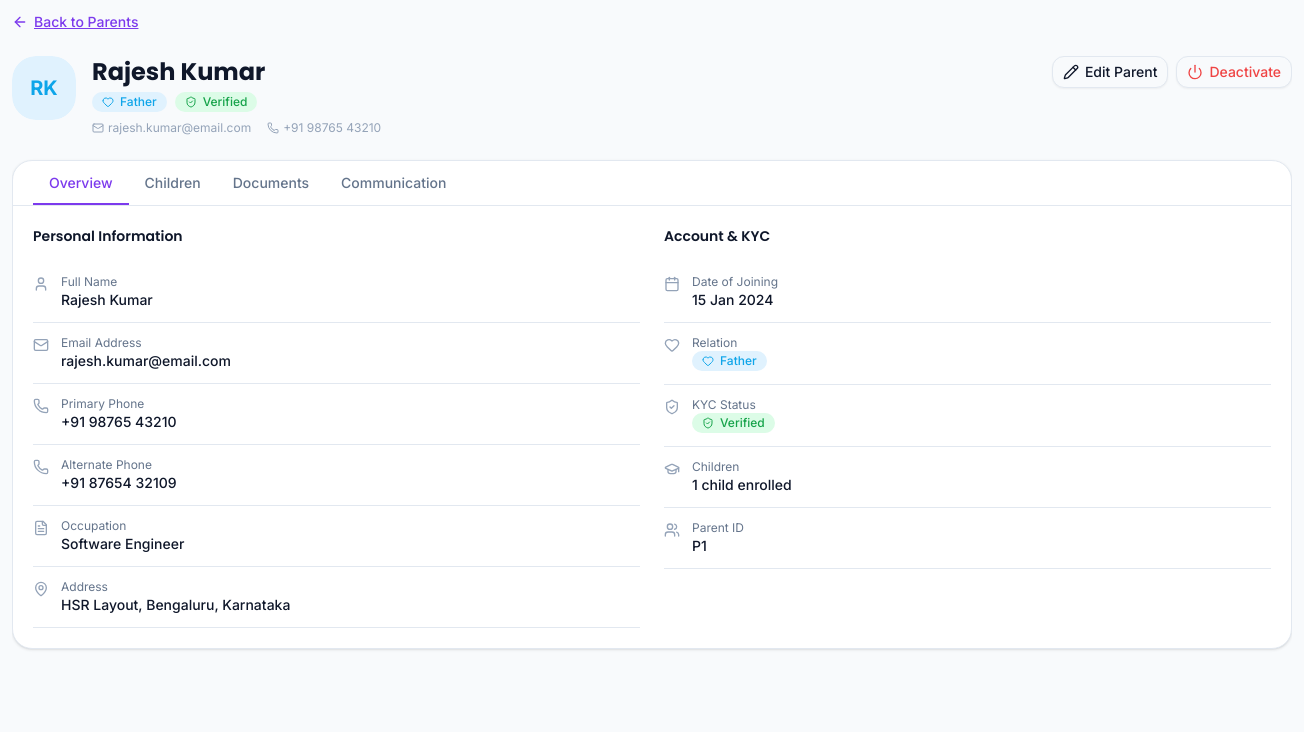
ParentDetailPage › Tabs › switches to Communication tab when clicked
The width and height of the screenshot is (1304, 732).
Click the button "Communication". click: point(394, 183)
box: top-left (325, 161), bottom-right (462, 205)
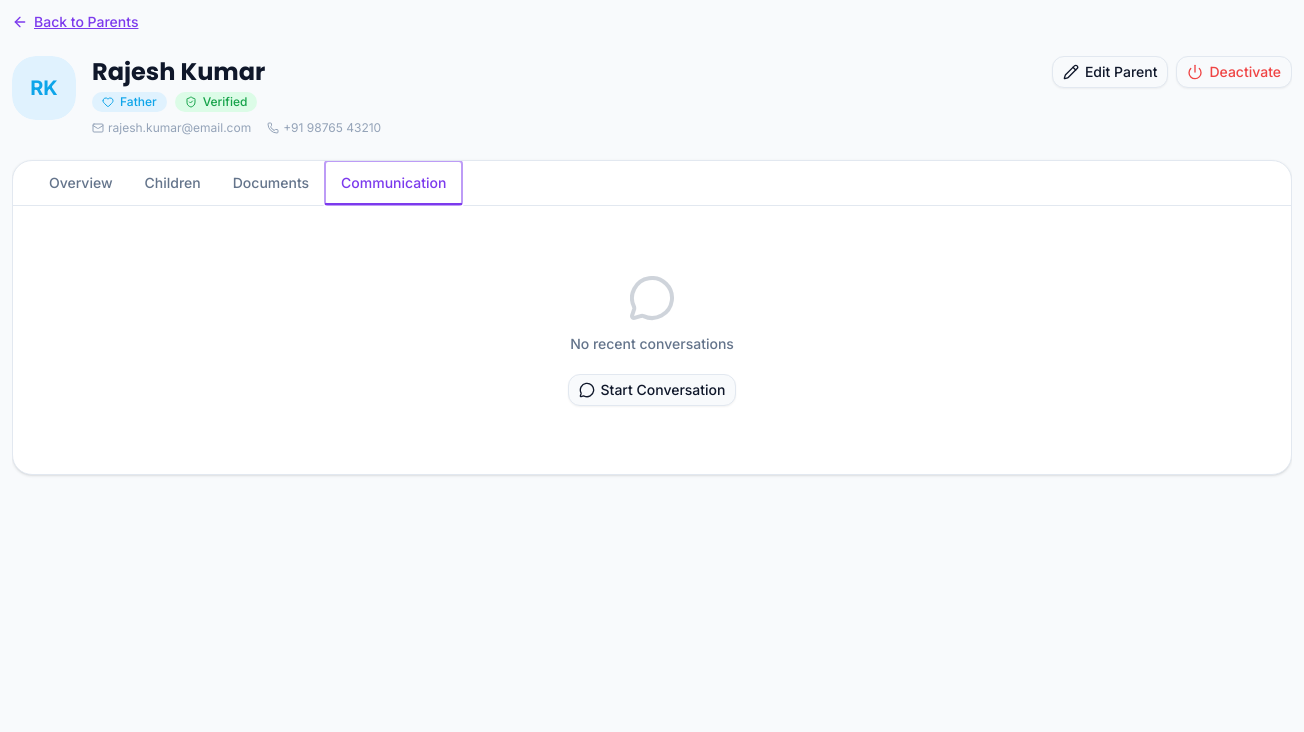
Expected: the text "No recent conversations" is shown, top-left (570, 334), bottom-right (734, 354)
Expected: the button "Start Conversation" is shown, top-left (568, 374), bottom-right (736, 406)
